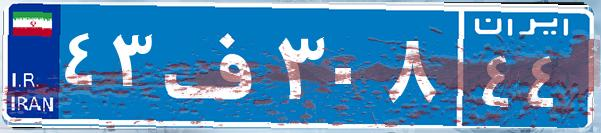0: (330, 28, 385, 110)
3: (273, 28, 330, 110), (110, 28, 158, 105)
4: (57, 26, 110, 107), (475, 38, 525, 113), (525, 38, 570, 115)
8: (385, 28, 445, 110)
ف: (158, 15, 273, 115)
